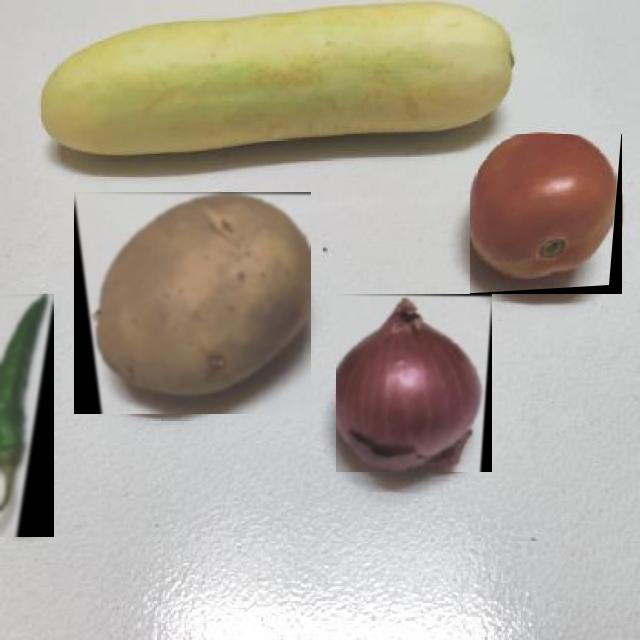Pepper: (0, 294, 54, 537)
onion: (336, 294, 492, 472)
potato: (74, 192, 311, 414)
tomato: (470, 134, 622, 294)
